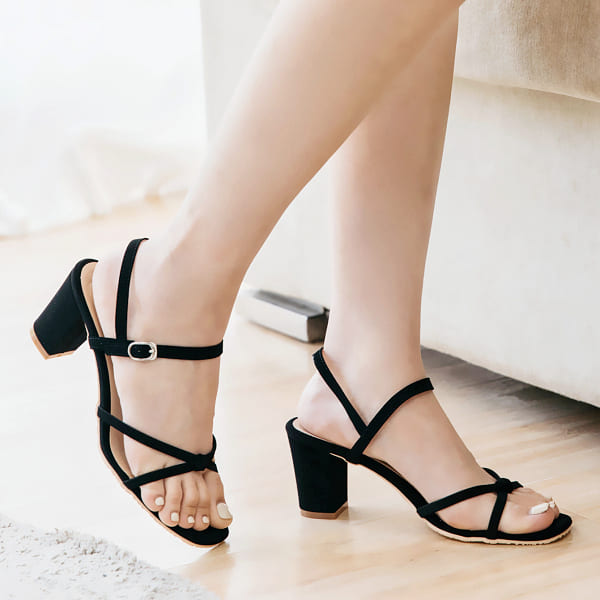woman_sun_shoe: (1, 222, 600, 563)
